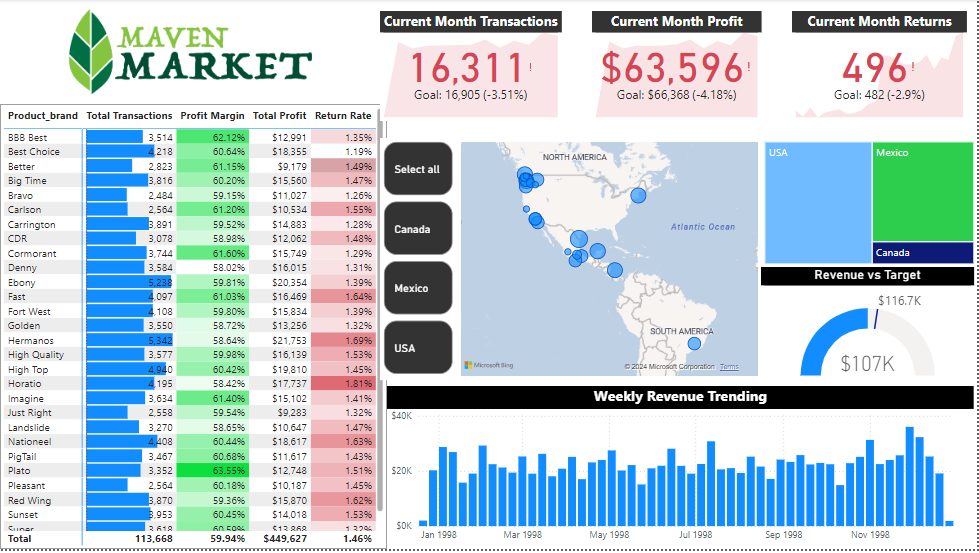

What the dashboard file says about the page in this screenshot:
{"tool":"powerbi","page":{"name":"Topline Performance","canvas":[1280,720],"ordinal":0},"visuals":[{"type":"image","box":[0,0,496.8,136.8],"z":0},{"type":"pivotTable","fields":{"Values":["Measure Table DAX.Total Transactions","Measure Table DAX.Profit Margin","Measure Table DAX.Total Profit","Measure Table DAX.Return Rate"],"Rows":["Products.product_brand"]},"box":[0,136.8,506.9,583.2],"z":1000},{"type":"kpi","title":"Current Month Transactions","fields":{"Indicator":["Measure Table DAX.Total Transactions"],"TrendLine":["Calendar.Start of Month"],"Goal":["Measure Table DAX.LastMonthTransactions"]},"box":[496.8,15.8,237.6,144],"z":2000},{"type":"kpi","title":"Current Month Profit","fields":{"TrendLine":["Calendar.Start of Month"],"Indicator":["Measure Table DAX.Total Profit"],"Goal":["Measure Table DAX.LastMonthProfit"]},"box":[774.7,15.8,221.8,144],"z":3000},{"type":"kpi","title":"Current Month Returns","fields":{"TrendLine":["Calendar.Start of Month"],"Goal":["Measure Table DAX.LastMonthReturns"],"Indicator":["Measure Table DAX.total returns"]},"box":[1036.8,15.8,229,144],"z":4000},{"type":"map","fields":{"Category":["Stores.city"],"Size":["Measure Table DAX.Total Transactions"]},"box":[597.6,181.4,398.9,316.8],"z":5000},{"type":"advancedSlicerVisual","fields":{"Values":["Stores.country"]},"box":[496.8,181.4,100.8,316.8],"z":6000},{"type":"treemap","fields":{"Group":["Stores.country","Stores.state","Stores.city"],"Values":["Measure Table DAX.Total Transactions"]},"box":[996.5,181.4,283.7,169.9],"z":7000},{"type":"columnChart","title":"Weekly Revenue Trending","fields":{"Y":["Measure Table DAX.TotalRevenue"],"Category":["Calendar.Start of Week"]},"box":[506.6,506.6,768.4,213.4],"z":8000},{"type":"gauge","title":"Revenue vs Target","fields":{"TargetValue":["Measure Table DAX.RevenueTarget"],"Y":["Measure Table DAX.TotalRevenue"]},"box":[996.5,351.4,279.4,146.9],"z":9000}]}

Visuals, with their boxes in screenshot pixels (x1, y1, x2, y2), scaled from the page's 1280x720 canvas onto the 979x553 screenshot:
image: locate(0, 0, 380, 105)
pivotTable - Measure Table DAX.Total Transactions x Measure Table DAX.Profit Margin: locate(0, 105, 388, 552)
"Current Month Transactions" kpi: locate(380, 12, 562, 123)
"Current Month Profit" kpi: locate(593, 12, 762, 123)
"Current Month Returns" kpi: locate(793, 12, 968, 123)
map - Stores.city x Measure Table DAX.Total Transactions: locate(457, 139, 762, 383)
advancedSlicerVisual - Stores.country: locate(380, 139, 457, 383)
treemap - Stores.country x Stores.state: locate(762, 139, 978, 270)
"Weekly Revenue Trending" columnChart: locate(387, 389, 975, 552)
"Revenue vs Target" gauge: locate(762, 270, 976, 383)
